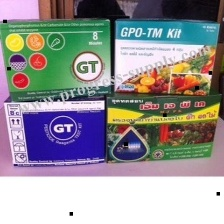book: (103, 81, 223, 167), (0, 14, 114, 104), (2, 80, 109, 171), (111, 14, 222, 98)
